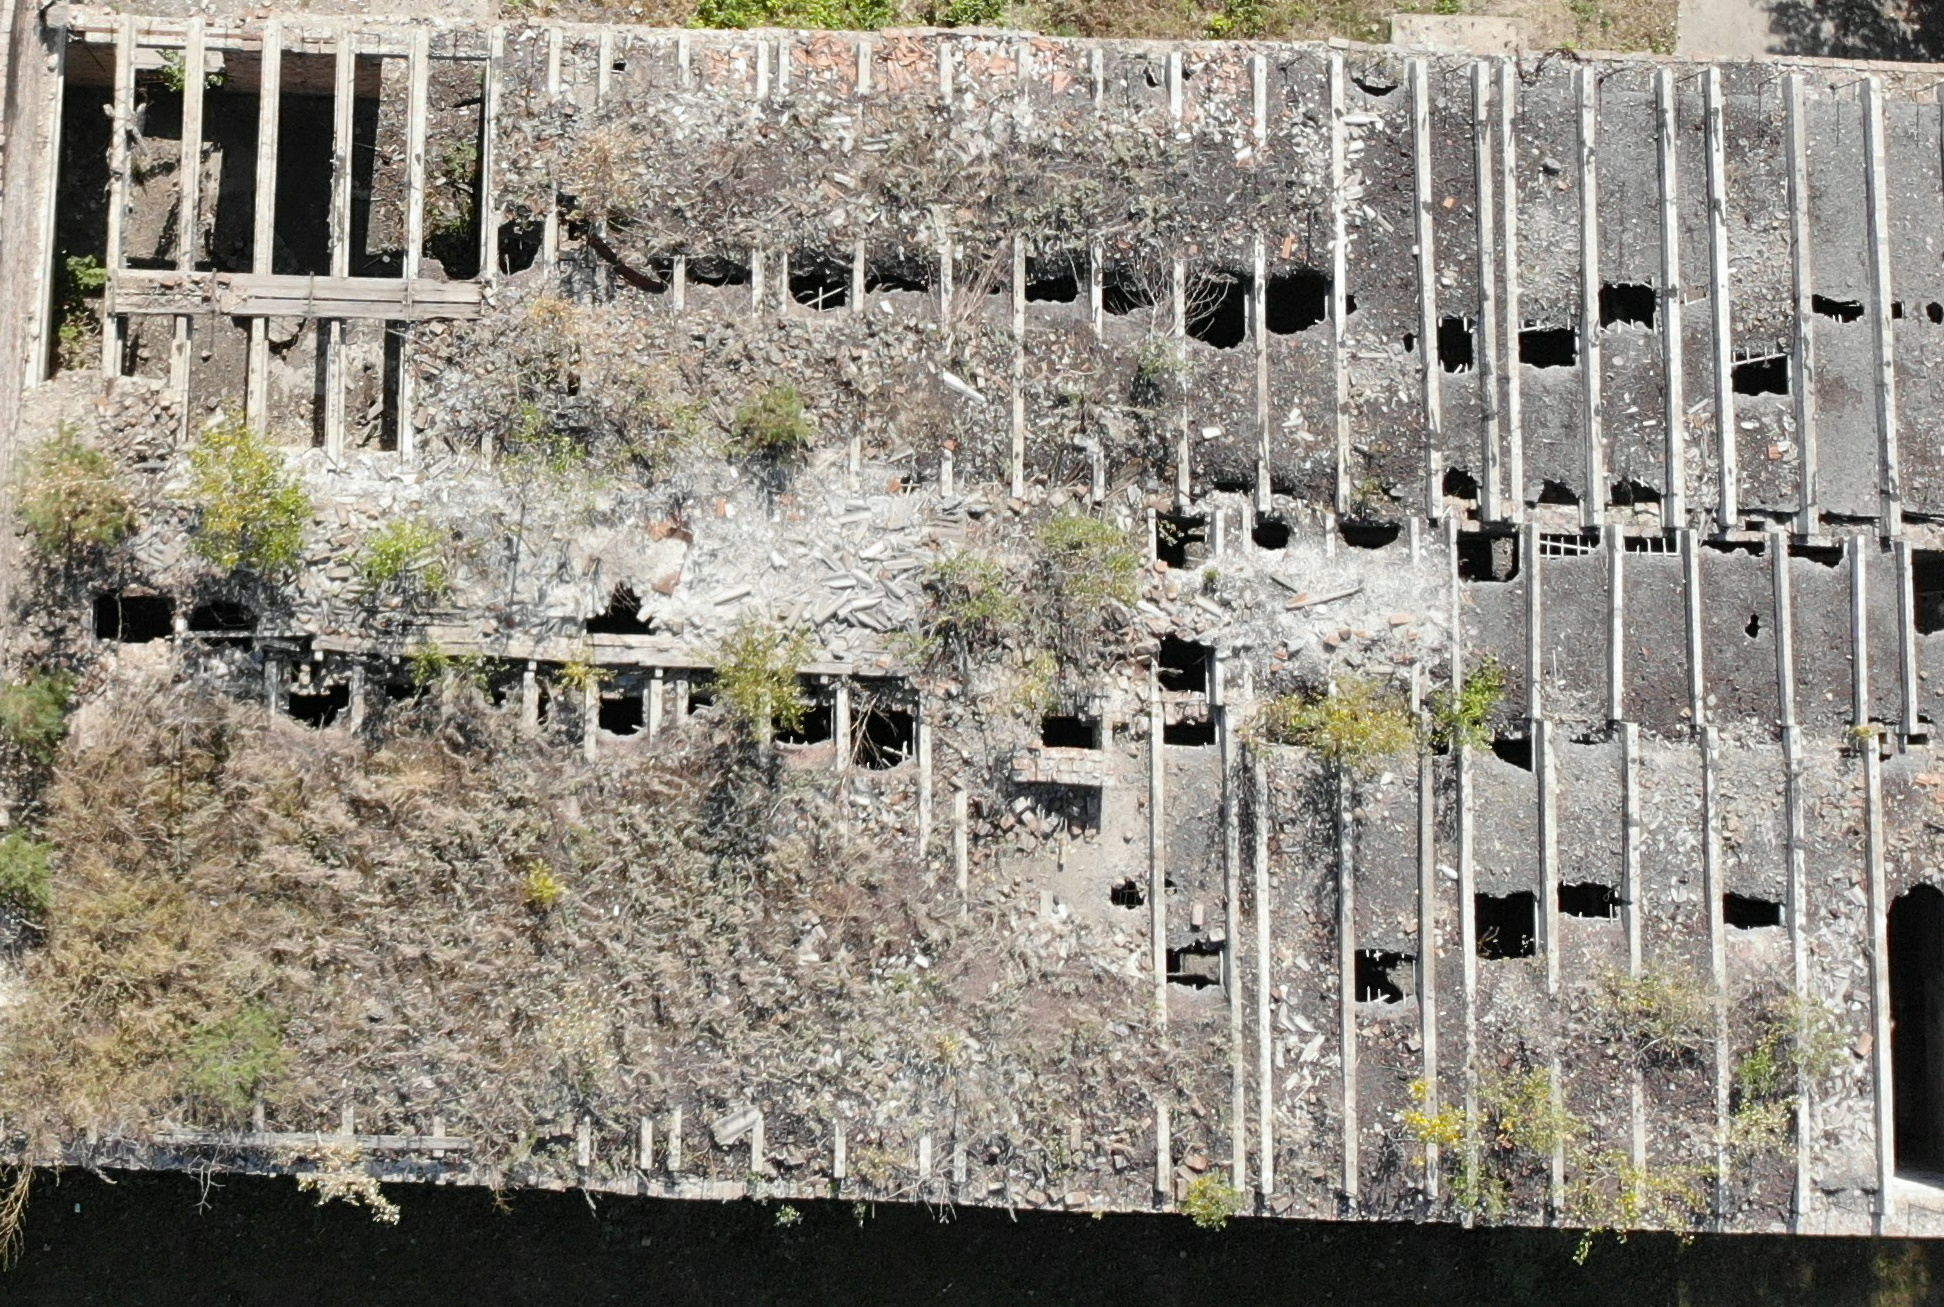tree: (169, 391, 330, 623), (1240, 649, 1422, 833), (1426, 1074, 1566, 1259), (140, 1002, 325, 1141), (365, 502, 494, 680), (36, 406, 147, 592), (1725, 966, 1851, 1130), (882, 537, 1008, 699), (691, 623, 830, 769), (1591, 1123, 1725, 1266), (713, 371, 869, 484)
